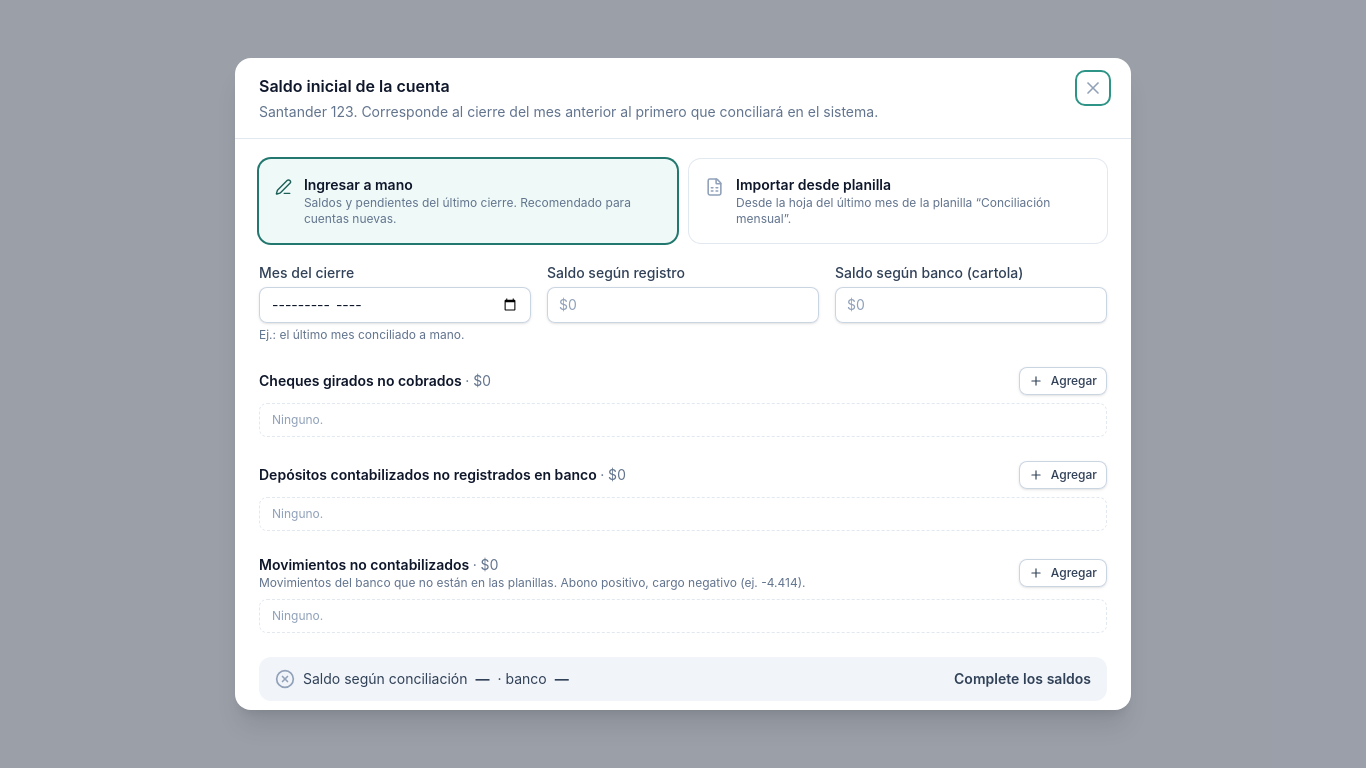
Saldo inicial manual › solo permite guardar cuando cuadra
The image size is (1366, 768).
Type "2026-04" into the field labelled "Mes del cierre" at (395, 305), box [259,287,531,323]
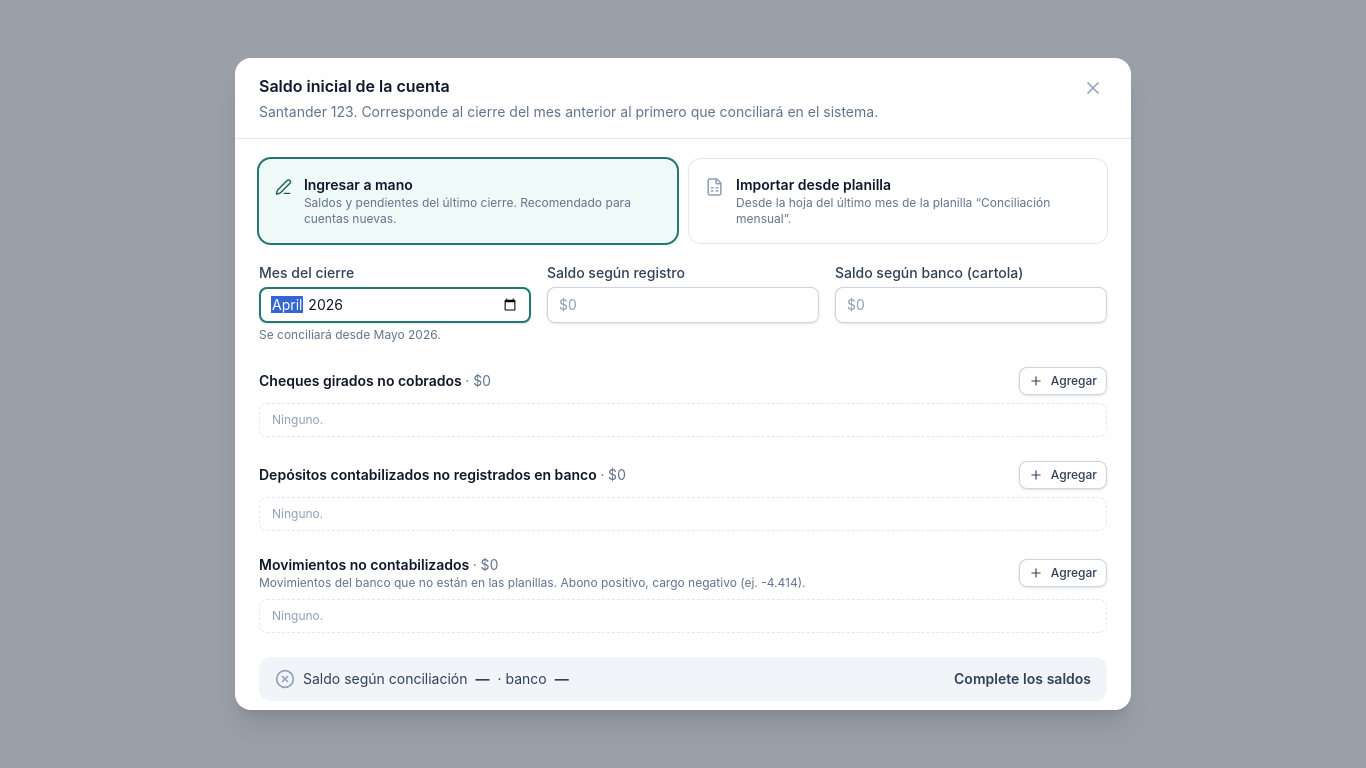
Type "1.000.000" into the field labelled "Saldo según registro" at (683, 305), box [547,287,819,323]
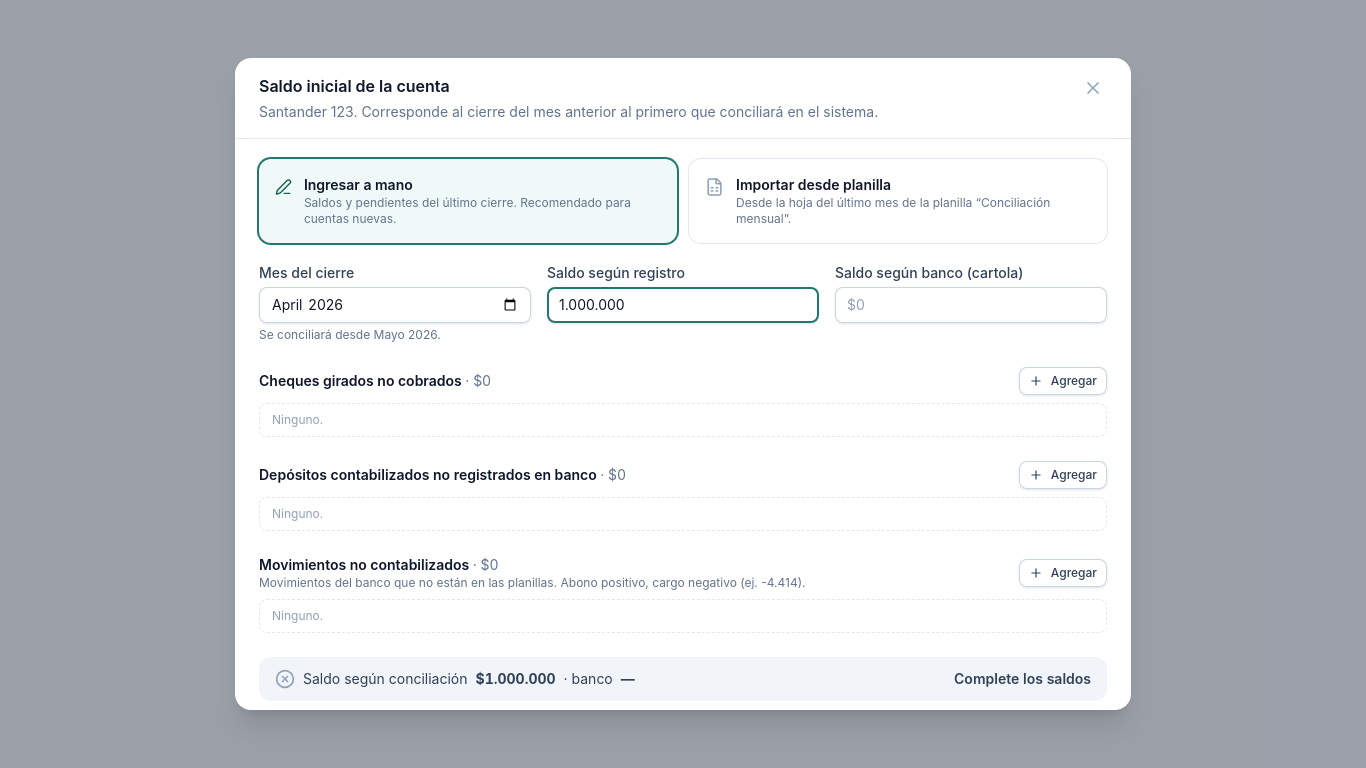
Type "1.080.000" into the field labelled "Saldo según banco (cartola)" at (971, 305), box [835,287,1107,323]
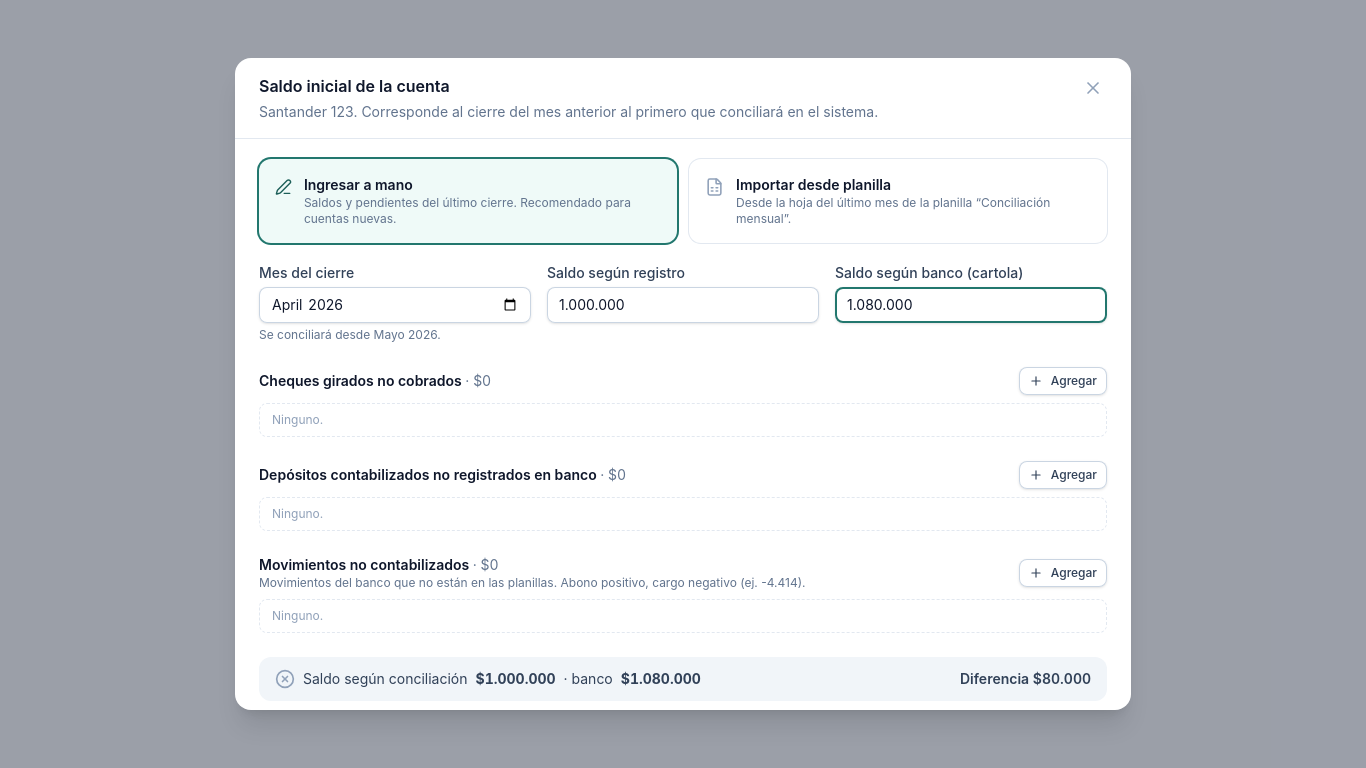
expect the text "Diferencia $80.000" is shown: met, box [960,669,1091,689]
# un cheque girado no cobrado de $80.000 explica la diferencia
Click the button "Agregar" in the row of "Cheques girados no cobrados" at (1063, 381), box [1019,367,1107,395]
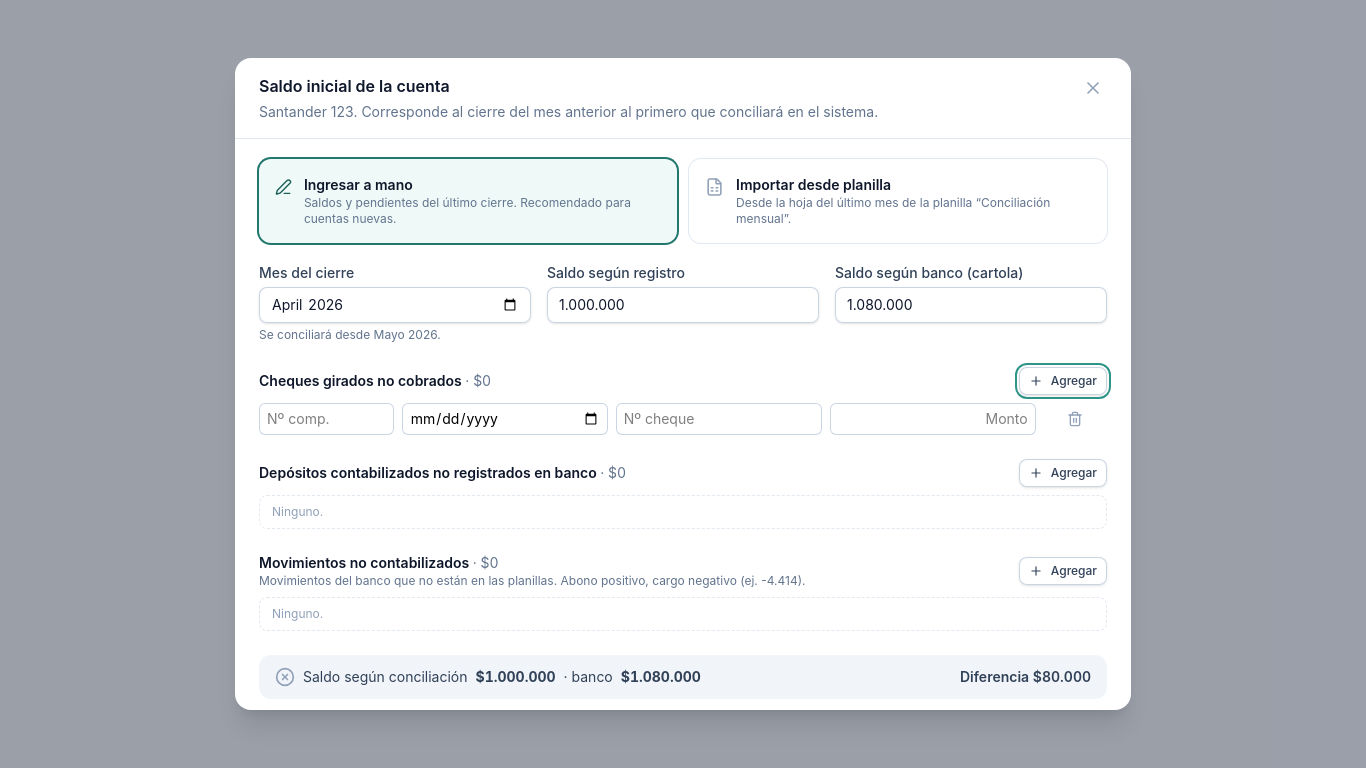
Type "80.000" into the field labelled "Monto" at (933, 419), box [830,403,1036,435]
(page scrolled)
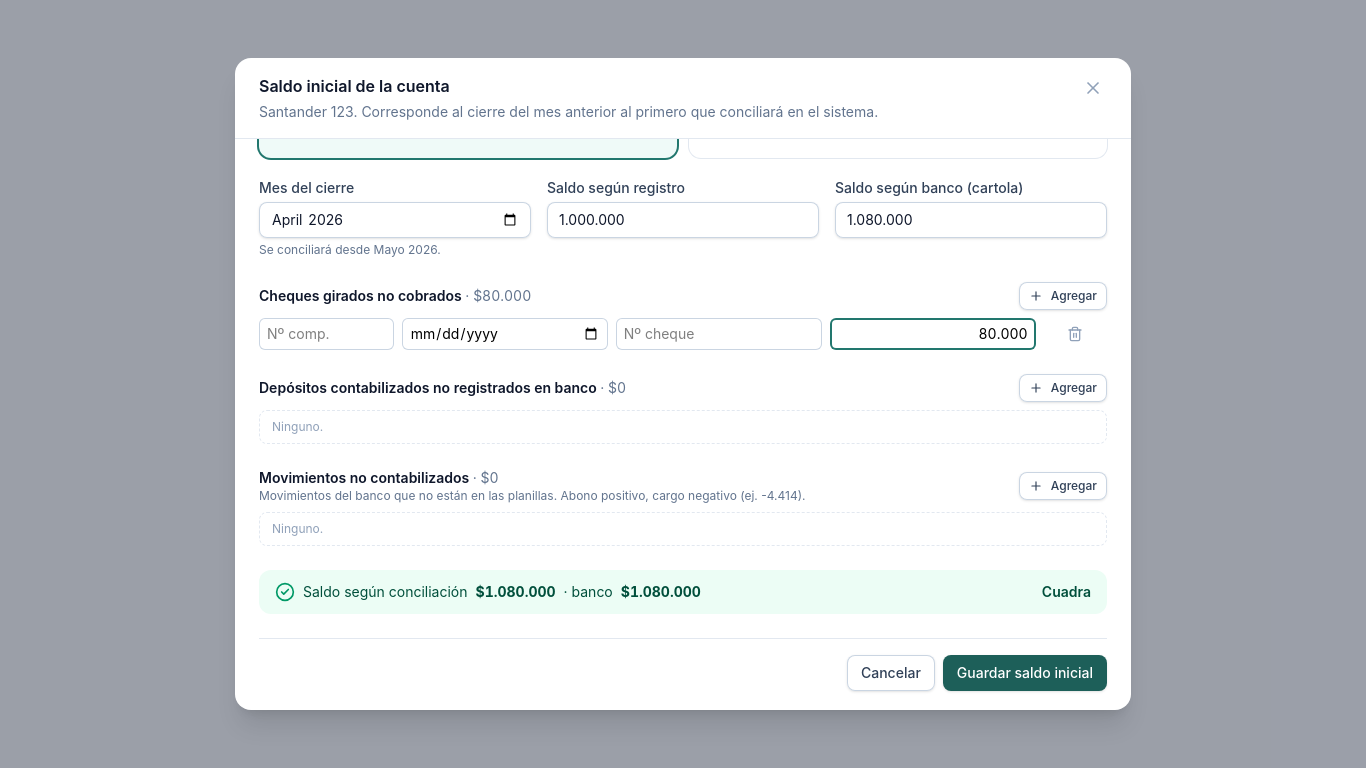
expect the text "Cuadra" is shown: met, box [1042,582,1091,602]
expect the button "Guardar saldo inicial" is enabled: met, box [943,655,1107,691]
